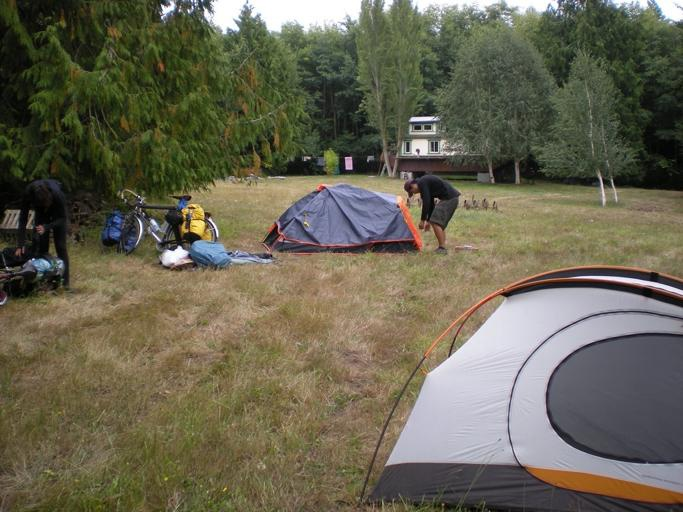non-vehicle: (108, 186, 219, 260), (0, 250, 64, 307)
